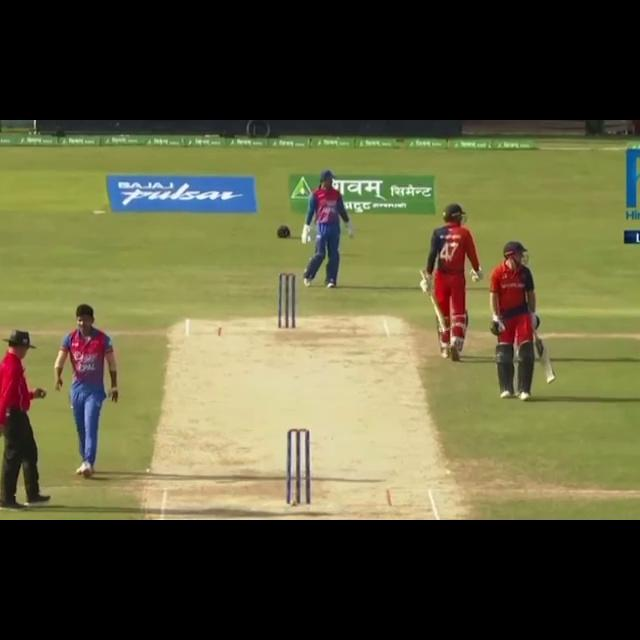umpire: (0, 325, 65, 507)
